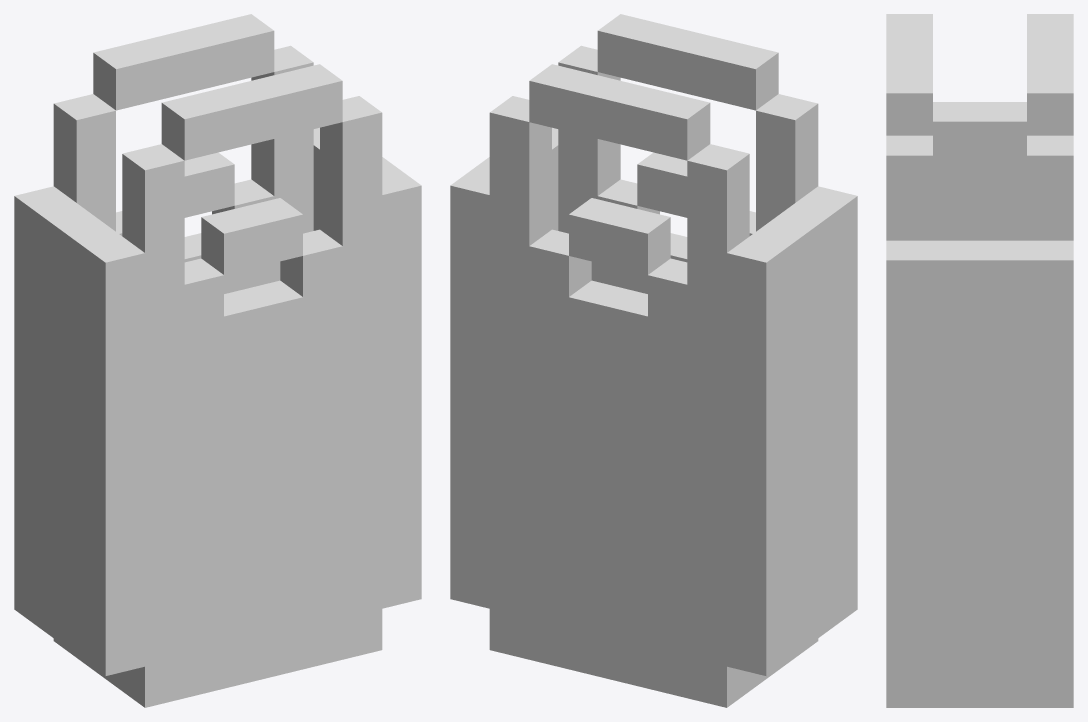
The model's file is Sacola.fbx.
3 renders of one model, left to right at view 1: azimuth 30°, elevation 25°; view 2: azimuth 150°, elevation 25°; view 3: azimuth 270°, elevation 25°, orthographic. The views are drawn at different scales.
Parts seen in each view (by area): view 1: sacola; view 2: sacola; view 3: sacola.
Part boxes in pixels (box(x1,y1,x2,y2)): sacola: box(14, 14, 421, 707); sacola: box(450, 14, 857, 707); sacola: box(886, 14, 1073, 707).
Size of the model in its own units: 80 by 140 by 40.
Materials: 1 (1 with a texture image).
